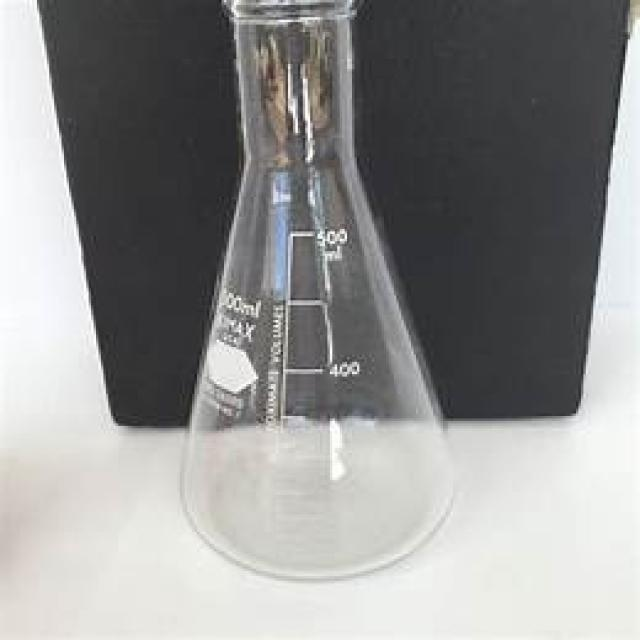Titrarion: (174, 8, 460, 584)
